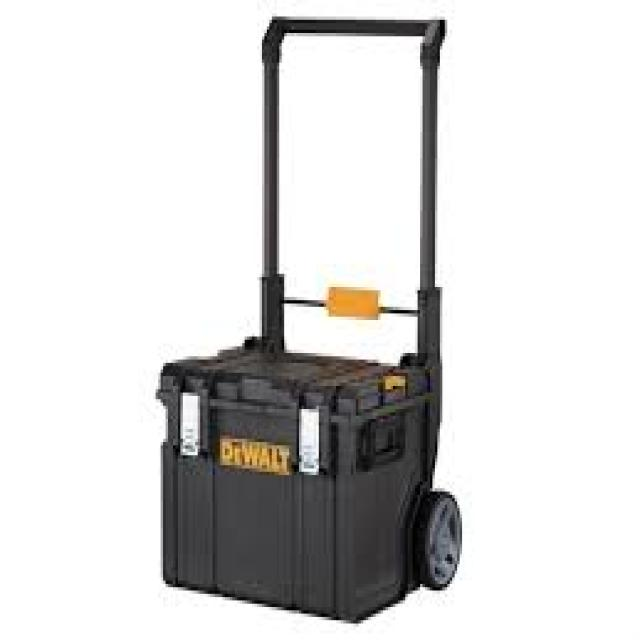tool_box: (160, 339, 459, 621)
